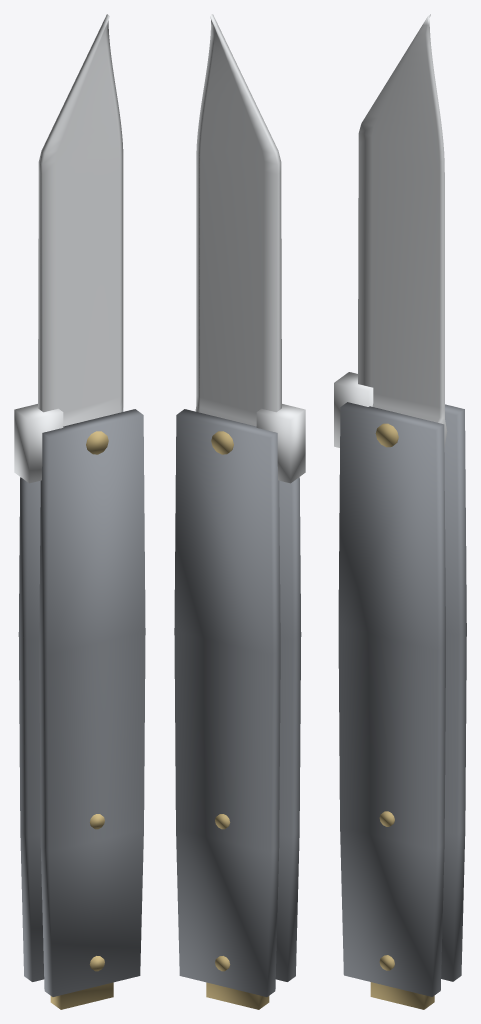
The model's file is butterfly.glb.
3 renders of one model, left to right at view 1: azimuth 30°, elevation 25°; view 2: azimuth 150°, elevation 25°; view 3: azimuth 330°, elevation 25°, orthographic.
Parts seen in each view (by area): view 1: fly_handle_b, fly_blade, fly_handle_a, fly_kicker, fly_latch, fly_pin_0.104; view 2: fly_handle_a, fly_blade, fly_handle_b, fly_kicker, fly_latch, fly_pin_0.104; view 3: fly_handle_b, fly_blade, fly_handle_a, fly_kicker, fly_latch, fly_pin_0.104.
Boxes of the visible parts, <box> form: fly_handle_b: <box>39,409,145,996</box>; fly_blade: <box>38,14,123,426</box>; fly_handle_a: <box>18,408,123,981</box>; fly_kicker: <box>14,404,63,483</box>; fly_latch: <box>50,982,113,1009</box>; fly_pin_0.104: <box>86,431,108,454</box>; fly_handle_a: <box>174,409,280,996</box>; fly_blade: <box>195,14,281,426</box>; fly_handle_b: <box>275,477,301,981</box>; fly_kicker: <box>256,404,305,483</box>; fly_latch: <box>206,982,269,1009</box>; fly_pin_0.104: <box>211,431,233,454</box>; fly_handle_b: <box>338,402,445,996</box>; fly_blade: <box>358,14,447,447</box>; fly_handle_a: <box>441,404,466,981</box>; fly_kicker: <box>334,372,373,447</box>; fly_latch: <box>370,982,434,1009</box>; fly_pin_0.104: <box>375,423,398,447</box>.
Size of the model in its own units: 0.029 by 0.248 by 0.0148.
